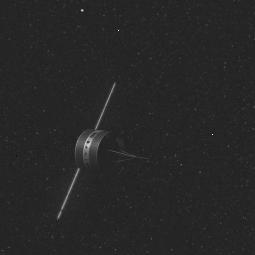double_start: (70, 104, 126, 180)
